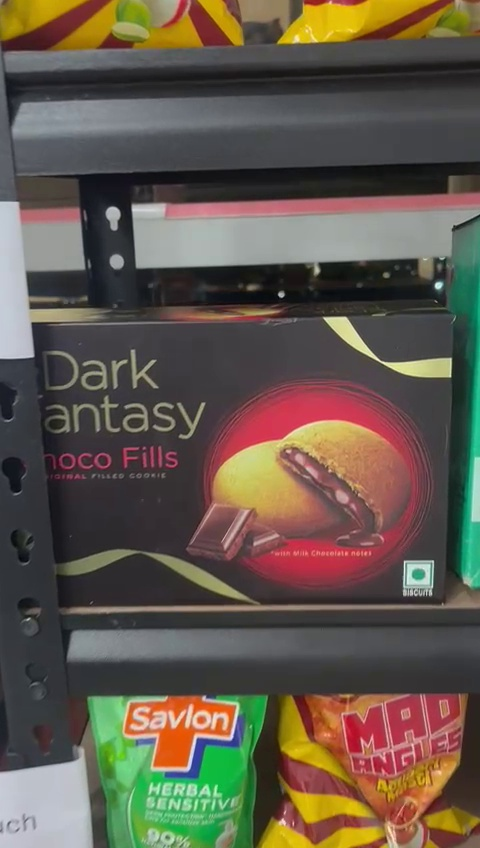Dark Fantasy: (31, 306, 451, 601)
